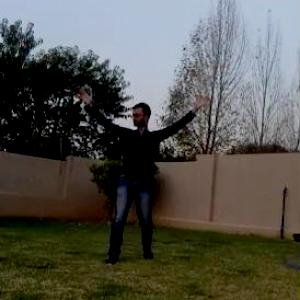takeoff: (74, 91, 210, 260)
